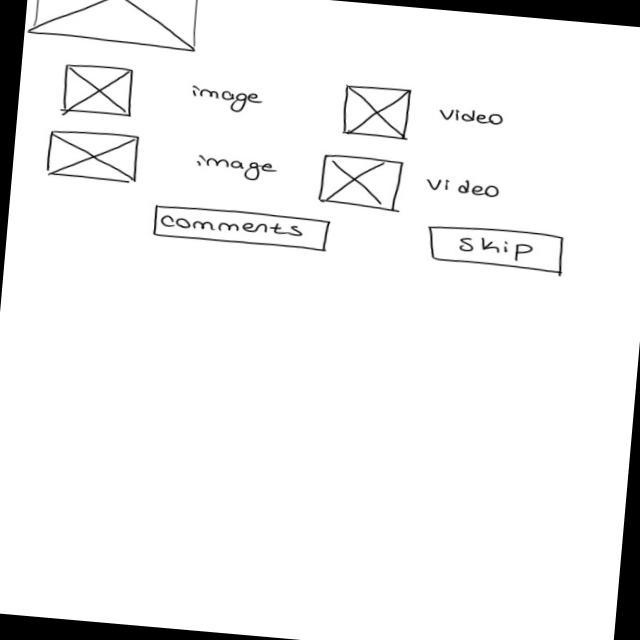button: (150, 203, 332, 254), (426, 222, 567, 275)
image: (25, 1, 205, 53), (45, 128, 143, 186), (319, 152, 405, 214), (61, 63, 138, 120), (341, 83, 414, 141)
label: (195, 153, 279, 185), (189, 83, 265, 115), (425, 175, 503, 201), (438, 106, 506, 129)
